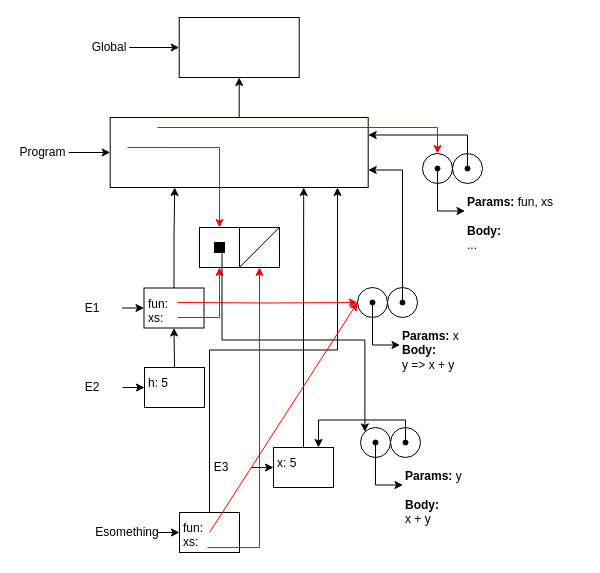
Some shapes in this 600 by 573 pixel diagram are drawn without their labels. The box of each missing label's shape, as (x1, y1, x2, y2) in pixels:
(Other pre-declared names): (178, 16, 299, 78)
d_map: L:: (109, 116, 368, 188)
